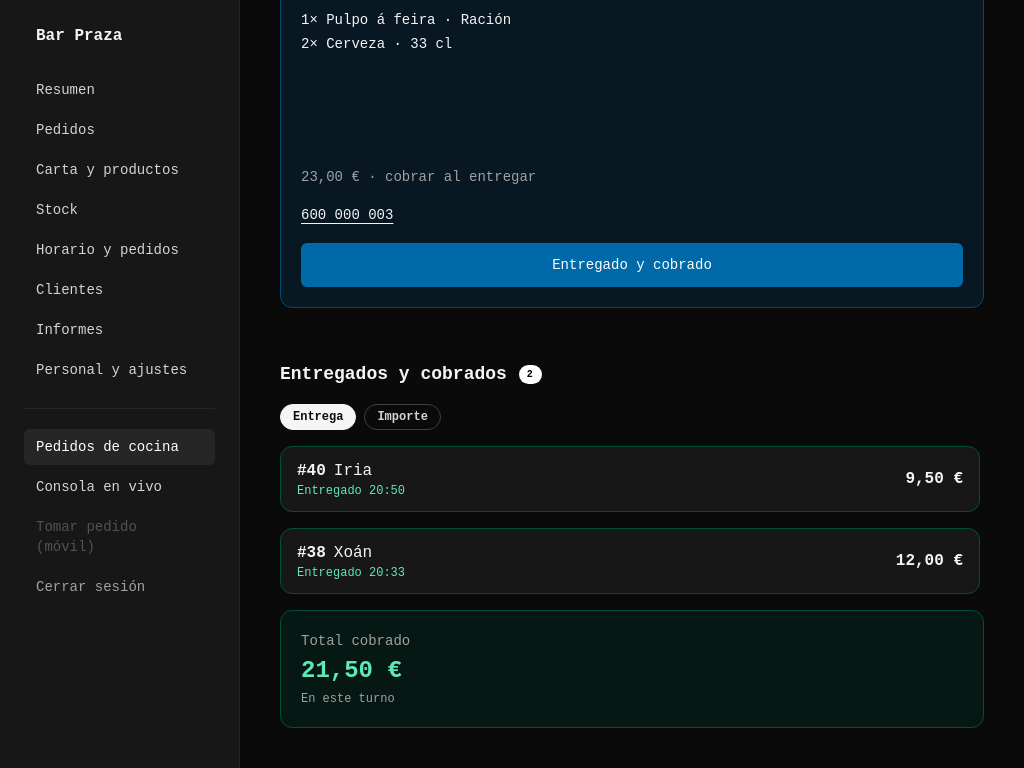
Scenario: KitchenPage › opens the details of a delivered order in a pop-up outside the column
(page scrolled)
Click the button "#40 Iria Entregado 20:50 9,50 €" at coordinates (353, 471), box x1=280 y1=446 x2=980 y2=512
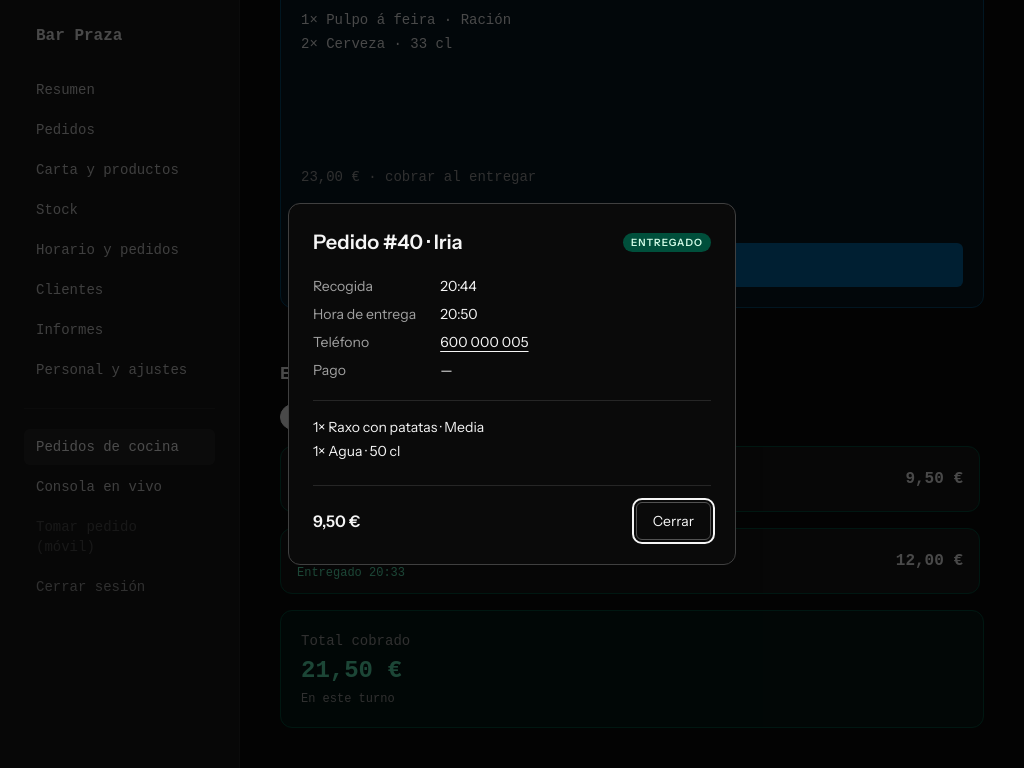
Now the list item "1× Raxo con patatas · Media" is shown, box x1=313 y1=418 x2=484 y2=436
Now the list item "1× Agua · 50 cl" is shown, box x1=313 y1=442 x2=400 y2=460
Now the text "Recogida" is shown, box x1=313 y1=277 x2=373 y2=295
